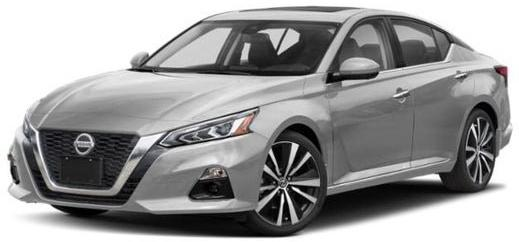Cars: (8, 6, 512, 234)
